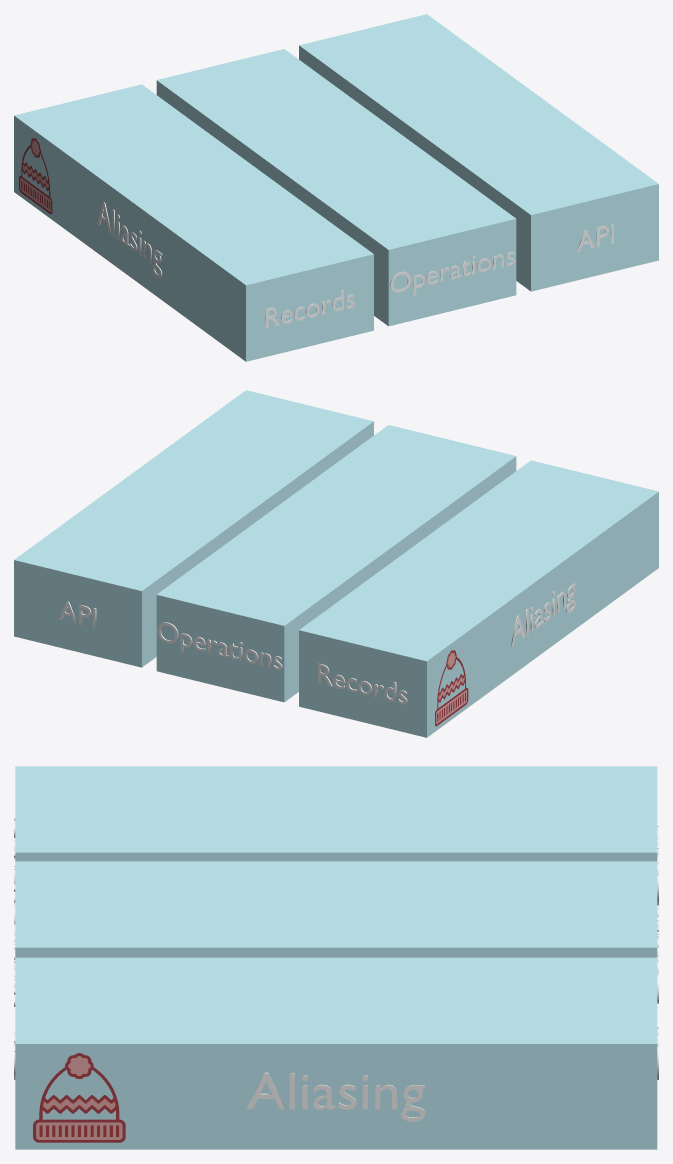
Rendered from block_2.glb.
3 renders of one model, top to bottom at view 1: azimuth 30°, elevation 25°; view 2: azimuth 150°, elevation 25°; view 3: azimuth 270°, elevation 25°, orthographic. The views are drawn at different scales.
Visible parts, largest first — view 1: r2_33x3_1, r2_33x3_2, r2_33x3_3; view 2: r2_33x3_1, r2_33x3_2, r2_33x3_3; view 3: r2_33x3_3, r2_33x3_2, r2_33x3_1.
Boxes of the visible parts, left/top/right/bottom form: r2_33x3_1: left=14, top=84, right=373, bottom=361; r2_33x3_2: left=156, top=49, right=516, bottom=326; r2_33x3_3: left=299, top=14, right=658, bottom=291; r2_33x3_1: left=299, top=460, right=658, bottom=737; r2_33x3_2: left=156, top=425, right=516, bottom=702; r2_33x3_3: left=14, top=390, right=373, bottom=667; r2_33x3_3: left=14, top=957, right=658, bottom=1149; r2_33x3_2: left=14, top=861, right=658, bottom=1006; r2_33x3_1: left=14, top=766, right=658, bottom=905.
Bounding box in the file's own units: 0.1138 × 0.0202 × 0.1105.
Materials: 3 (1 with a texture image).
